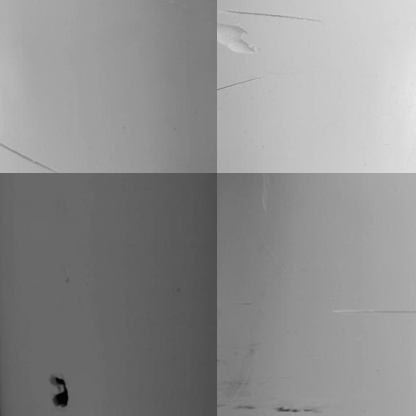kongdong: (48, 373, 70, 408)
sunshang: (2, 138, 60, 173), (216, 22, 261, 59), (332, 301, 416, 317), (217, 70, 276, 91), (223, 11, 330, 21)
